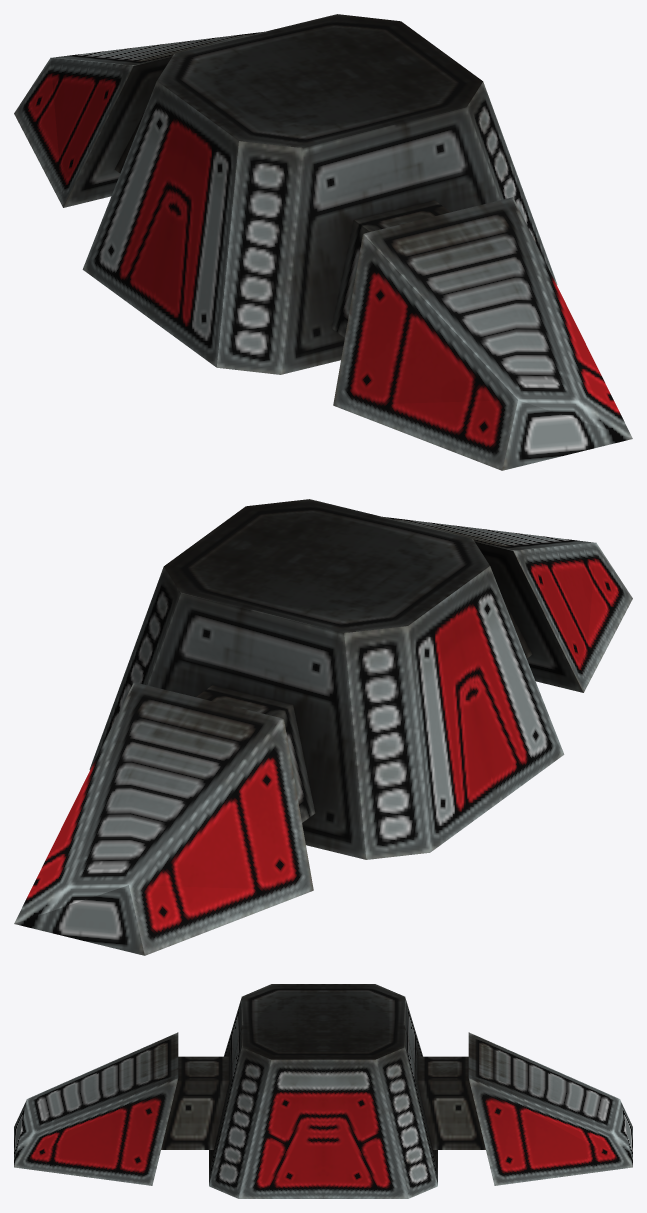
File: MortarBody_Mid.obj
3 renders of one model, top to bottom at view 1: azimuth 30°, elevation 25°; view 2: azimuth 150°, elevation 25°; view 3: azimuth 270°, elevation 25°, orthographic. The views are drawn at different scales.
Visible parts, largest first — view 1: MortarBody:sci_fi_turret_4; view 2: MortarBody:sci_fi_turret_4; view 3: MortarBody:sci_fi_turret_4.
Boxes of the visible parts, bbox=[...] form: MortarBody:sci_fi_turret_4: bbox=[14, 14, 632, 470]; MortarBody:sci_fi_turret_4: bbox=[14, 499, 632, 955]; MortarBody:sci_fi_turret_4: bbox=[14, 984, 632, 1198].
Size of the model in its own units: 21.65 by 11.9 by 53.71.
Materials: 1 (1 with a texture image).
